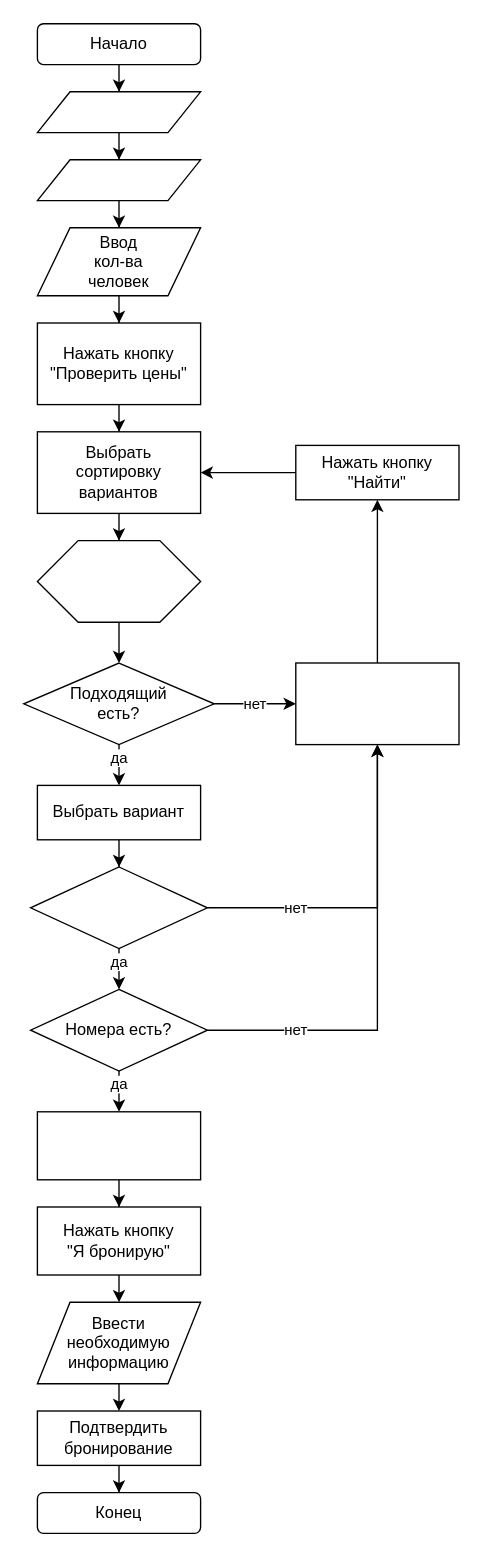
Some shapes in this 483 by 1557 pixel diagram are drawn without their labels. Each missing label, with the box of its shape:
Ввод дат: (36, 158, 201, 201)
Ввод маршрута: (36, 90, 201, 133)
Выбрать номер: (36, 1110, 201, 1180)
Задать расширенные параметры поиска: (294, 662, 459, 745)
Подходит?: (29, 866, 207, 949)
Просмотреть поочередно варианты: (36, 539, 201, 622)
